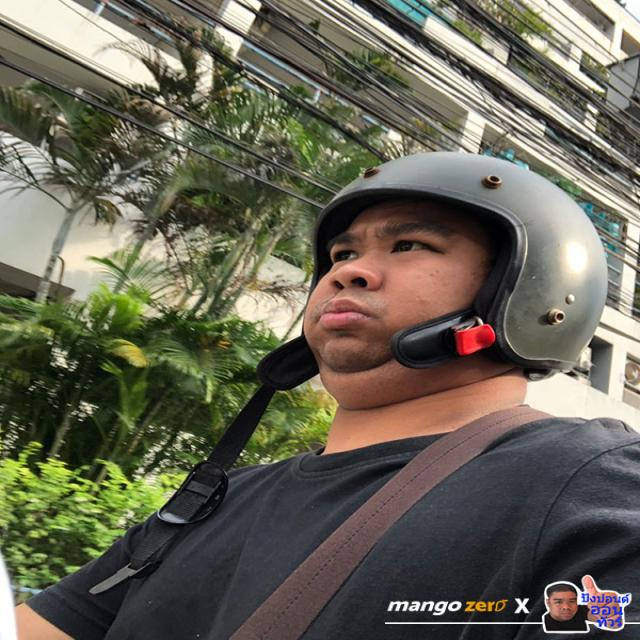illegal_helmet: (72, 144, 617, 604)
